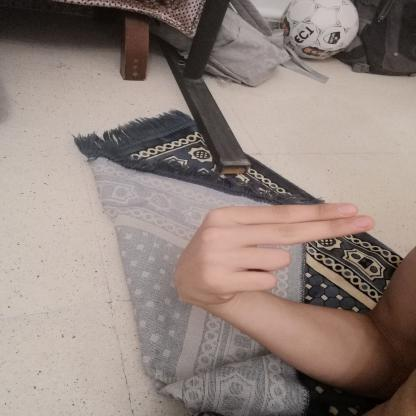AYN: (161, 191, 385, 318)
